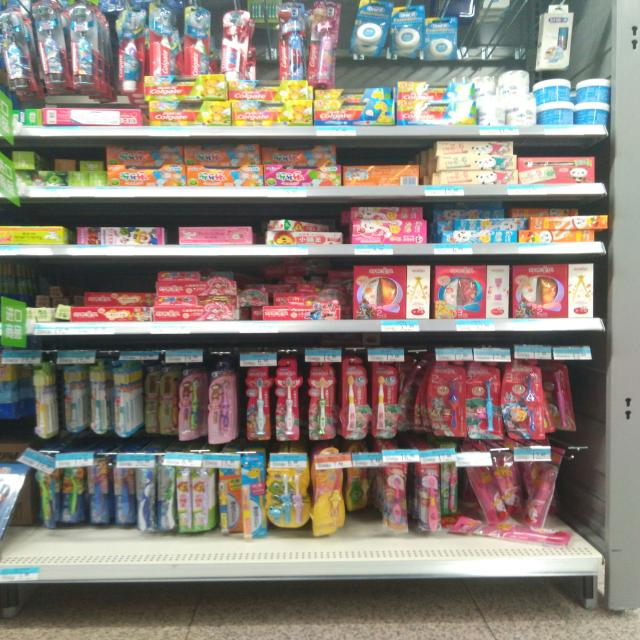unorganised: (460, 451, 566, 521), (436, 202, 613, 242), (237, 261, 353, 321), (443, 516, 578, 553), (418, 139, 518, 187), (143, 361, 178, 437), (262, 216, 344, 245), (174, 220, 259, 247), (144, 74, 230, 100), (405, 347, 430, 436), (71, 223, 167, 245), (260, 141, 343, 166), (422, 12, 460, 61), (573, 77, 613, 123), (345, 466, 372, 520), (79, 289, 158, 307), (346, 206, 426, 219), (53, 153, 102, 172), (9, 149, 37, 170), (35, 288, 66, 306), (51, 301, 70, 321)
